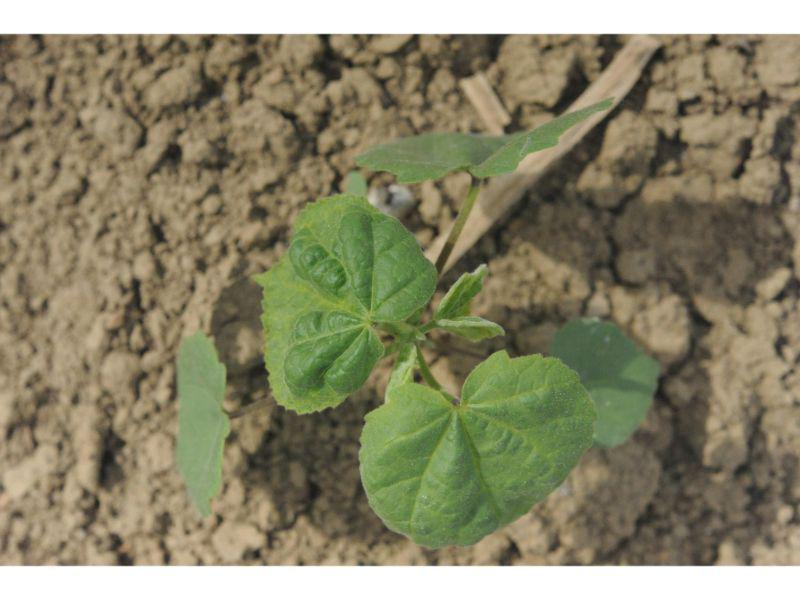velvet: (174, 97, 659, 546)
